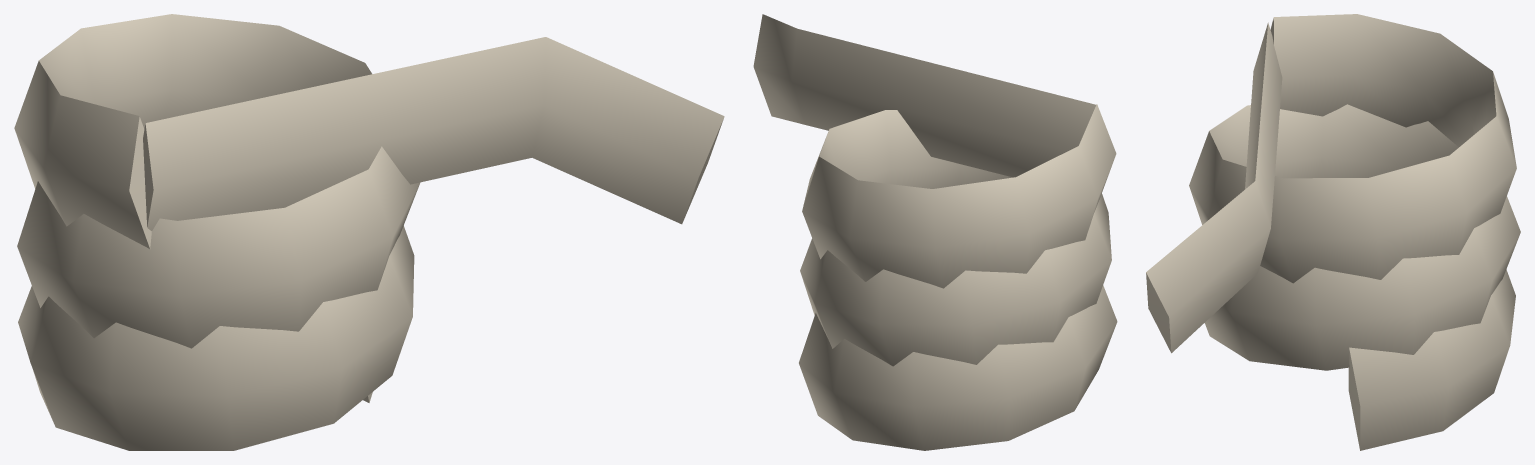
File: wraps-cloth.glb
3 renders of one model, left to right at view 1: azimuth 30°, elevation 25°; view 2: azimuth 150°, elevation 25°; view 3: azimuth 270°, elevation 25°, orthographic. The views are drawn at different scales.
Visible parts, largest first — view 1: wraps-cloth; view 2: wraps-cloth; view 3: wraps-cloth.
Boxes of the visible parts, <box> form: wraps-cloth: <box>14,14,724,450</box>; wraps-cloth: <box>753,14,1117,450</box>; wraps-cloth: <box>1146,14,1520,450</box>.
Bounding box in the file's own units: 0.1066 × 0.0725 × 0.0766.
